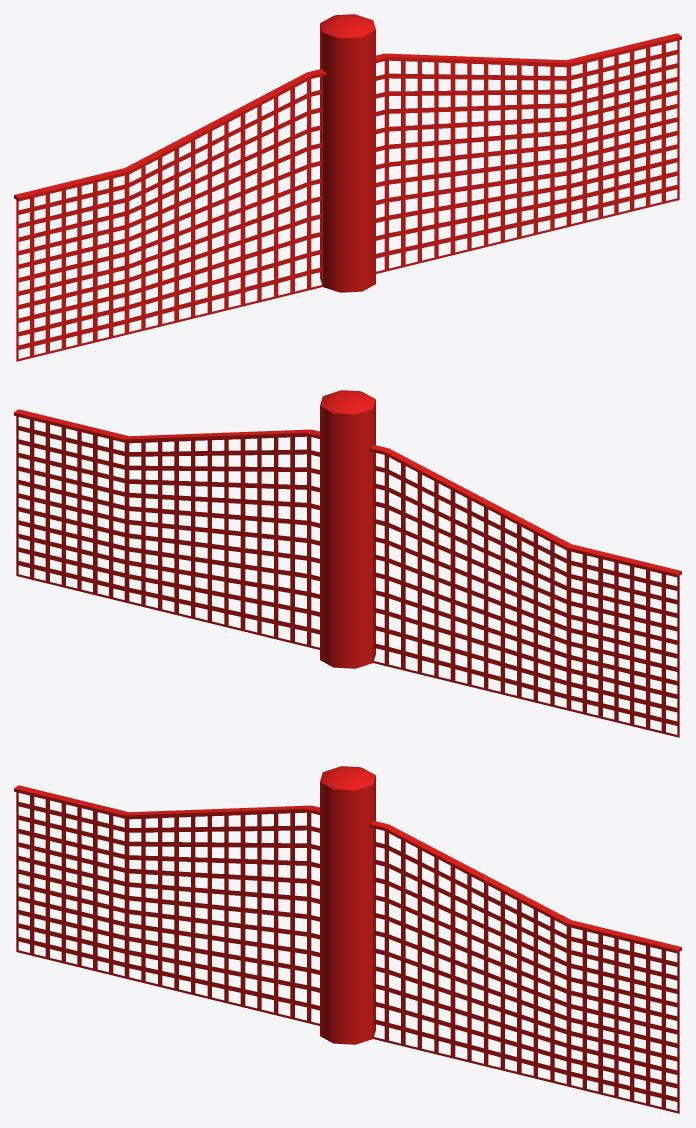
Rendered from Snow_Railing_Mesh.fbx.
The picture shows the model from 3 angles, top to bottom: view 1: azimuth 30°, elevation 25°; view 2: azimuth 150°, elevation 25°; view 3: azimuth 330°, elevation 25°; orthographic projection.
Parts seen in each view (by area): view 1: Plane.001; view 2: Plane.001; view 3: Plane.001.
Part boxes in pixels (x1,y1,x2,y2): Plane.001: (14,14,681,361); Plane.001: (14,390,681,737); Plane.001: (14,766,681,1113).
Size of the model in its own units: 22.79 by 300 by 113.
